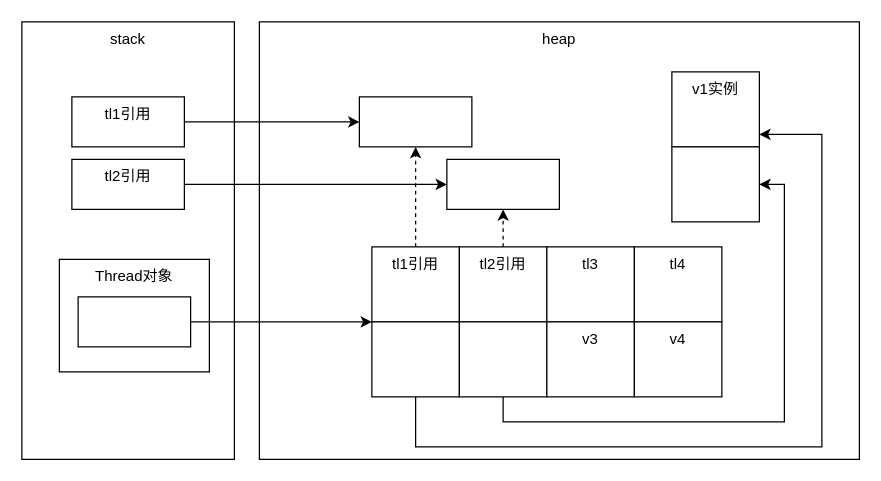
This 881x481 diagram has some shape labels left out. Here are the shapes that lost their labels. From the top down, the centre of each, then its label:
At point 415,121: "tl1实例".
At point 502,183: "tl2实例".
At point 715,184: "v2实例".
At point 134,321: "threadLocalMap".
At point 415,359: "v1引用".
At point 502,359: "v2引用".
